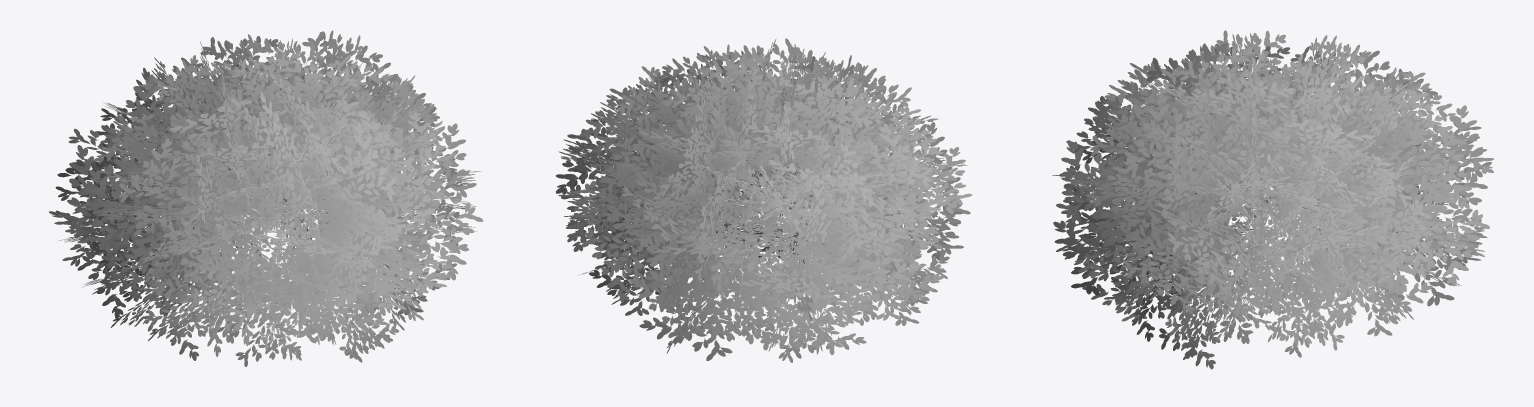
The model's file is SM_Com_Shr_03AS.fbx.
3 views of the same model, side by side, from view 1: azimuth 30°, elevation 25°; view 2: azimuth 150°, elevation 25°; view 3: azimuth 270°, elevation 25° (orthographic). The views are drawn at different scales.
Parts seen in each view (by area): view 1: SM_Com_Shr_03AS.mo; view 2: SM_Com_Shr_03AS.mo; view 3: SM_Com_Shr_03AS.mo.
Part boxes in pixels (box(x1,y1,x2,y2)): SM_Com_Shr_03AS.mo: box(49, 30, 483, 366); SM_Com_Shr_03AS.mo: box(555, 38, 972, 362); SM_Com_Shr_03AS.mo: box(1052, 30, 1493, 369).
Size of the model in its own units: 2.02 by 1.4 by 2.01.
